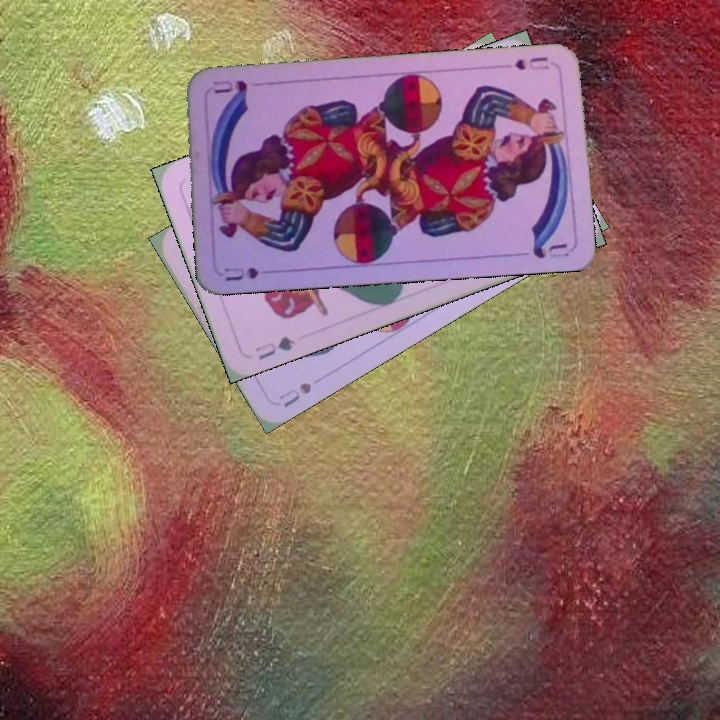GU: (251, 332, 298, 362)
SU: (275, 378, 314, 411), (220, 263, 280, 284), (510, 53, 552, 73)
